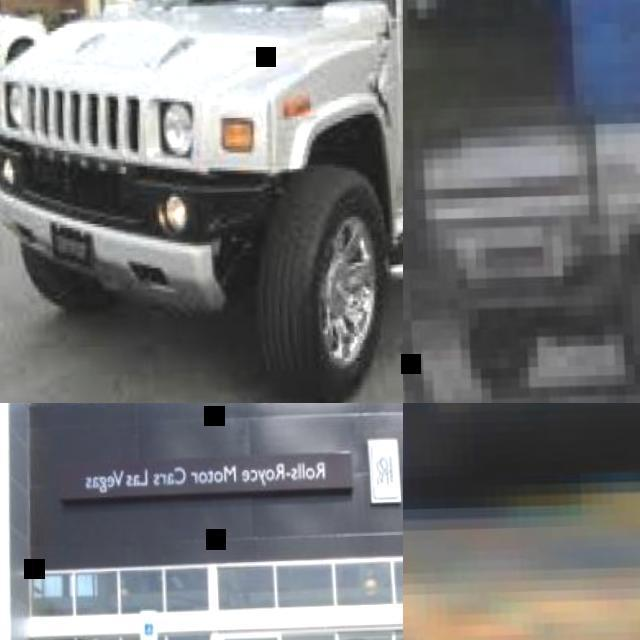car: (2, 0, 398, 382)
